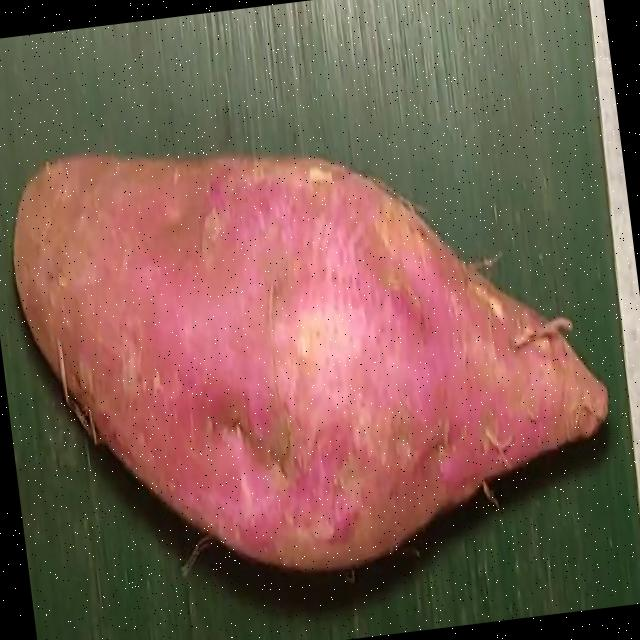Sweet Potato: (12, 150, 612, 570)
